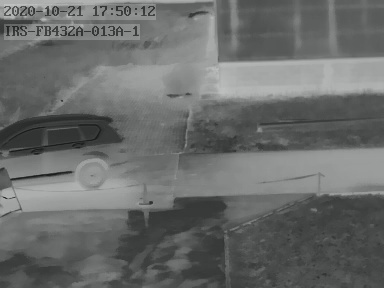vehicle: (1, 112, 125, 190)
